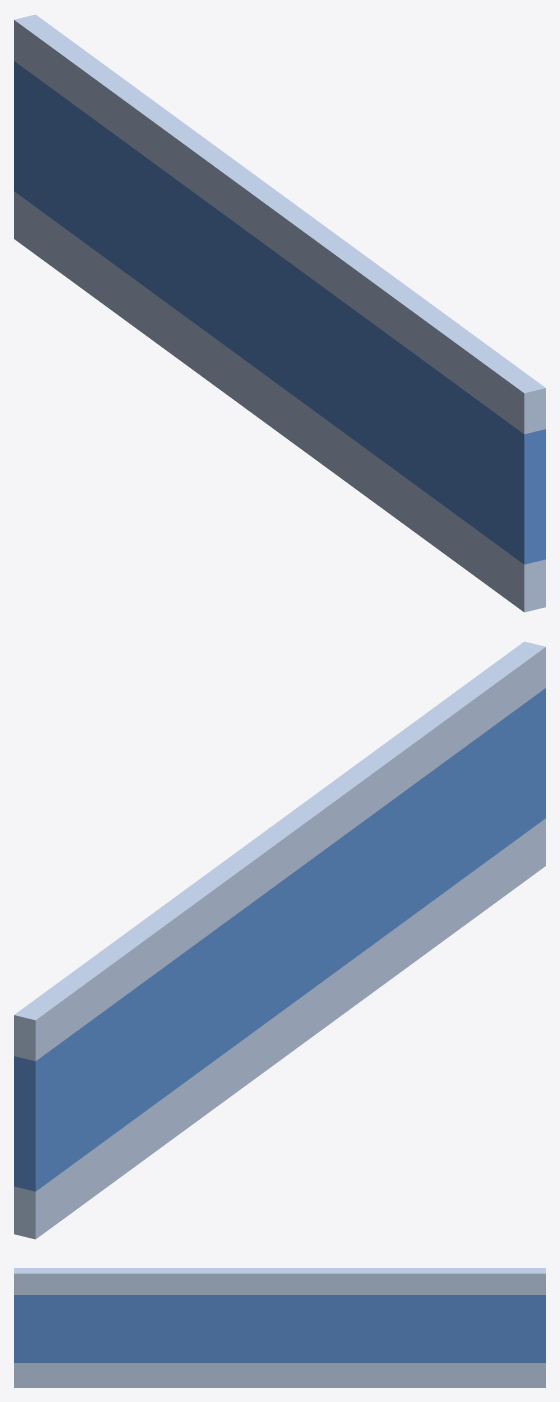
The model's file is Finish Top.fbx.
3 views of the same model, one above another, from view 1: azimuth 30°, elevation 25°; view 2: azimuth 150°, elevation 25°; view 3: azimuth 270°, elevation 25° (orthographic). The views are drawn at different scales.
Parts seen in each view (by area): view 1: Finish Top; view 2: Finish Top; view 3: Finish Top.
Boxes of the visible parts, x1,y1,x2,y2 form: Finish Top: (14,14,545,612); Finish Top: (14,641,545,1239); Finish Top: (14,1268,545,1387).
Bounding box in the file's own units: 15.88 × 154 × 648.
